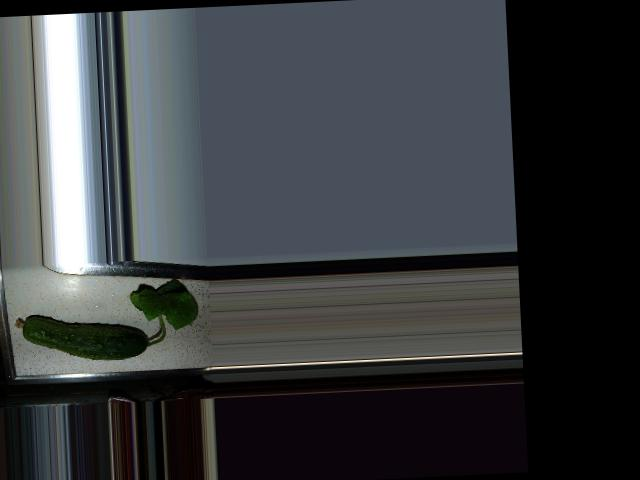cucumber: (14, 310, 150, 364)
